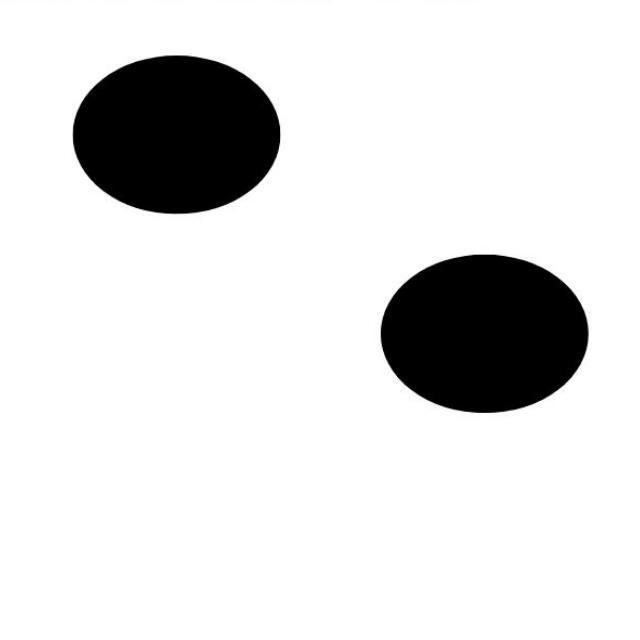letter_e: (73, 53, 590, 625)
